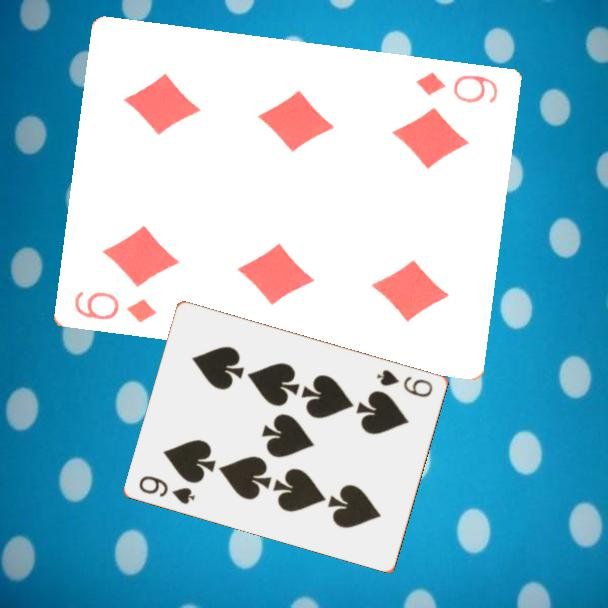d06: (70, 288, 159, 327), (412, 69, 500, 107)
s09: (136, 472, 198, 507), (373, 366, 436, 400)
